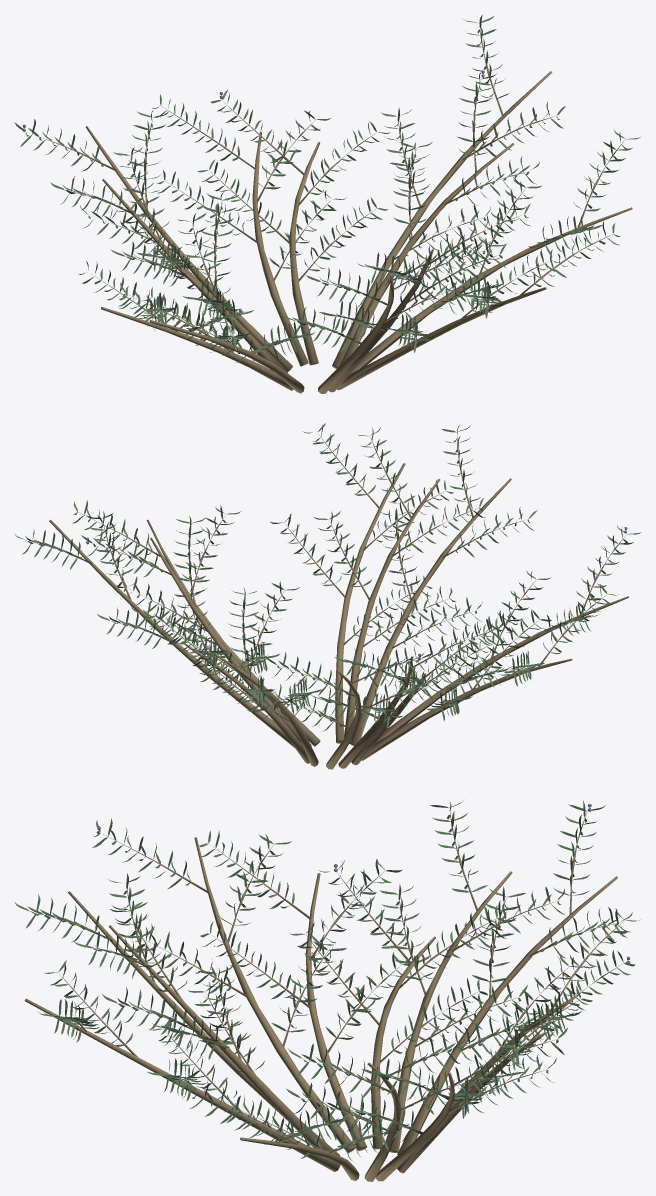
Rendered from Romarin_2_Niveau0.fbx.
The picture shows the model from 3 angles, top to bottom: view 1: azimuth 30°, elevation 25°; view 2: azimuth 150°, elevation 25°; view 3: azimuth 270°, elevation 25°; orthographic projection. The views are drawn at different scales.
Parts seen in each view (by area): view 1: Romarin_2_Niveau0_Jeu; view 2: Romarin_2_Niveau0_Jeu; view 3: Romarin_2_Niveau0_Jeu.
Boxes of the visible parts, <box> form: Romarin_2_Niveau0_Jeu: <box>14,15,640,393</box>; Romarin_2_Niveau0_Jeu: <box>15,423,640,769</box>; Romarin_2_Niveau0_Jeu: <box>14,800,639,1181</box>.
Bounding box in the file's own units: 90.91 × 39.73 × 80.92.
